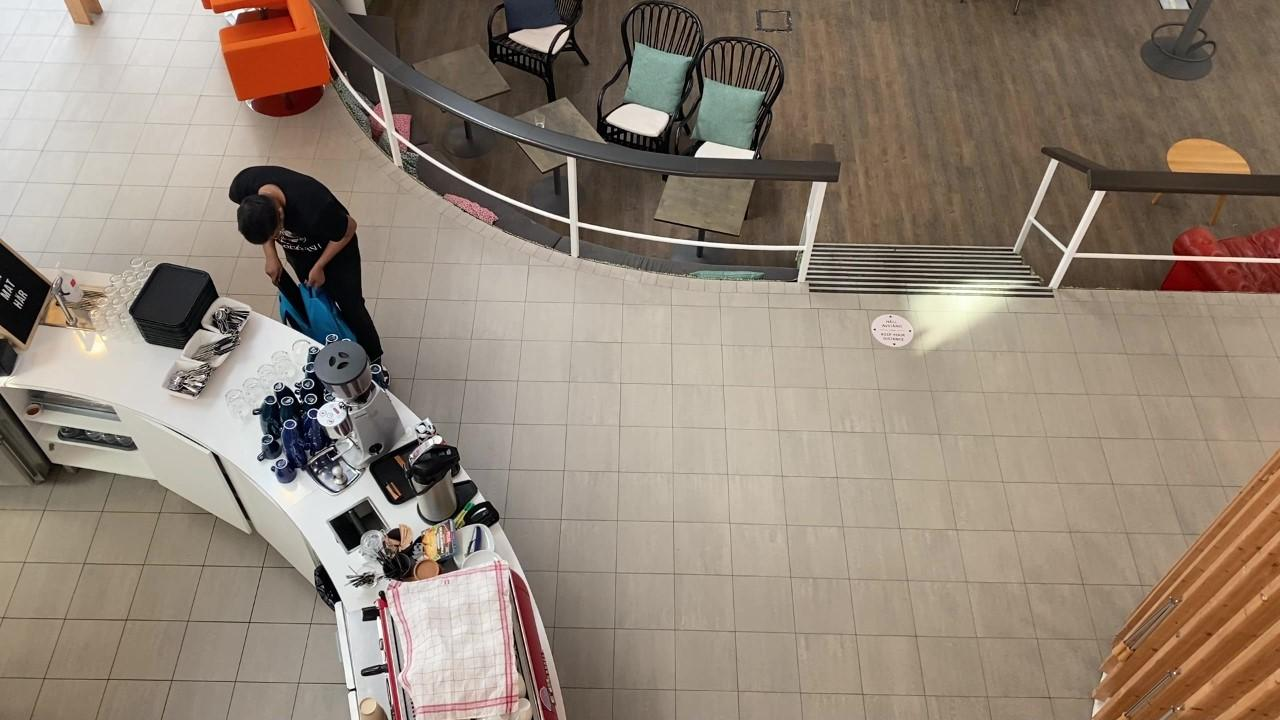shoplifting: (227, 165, 386, 372)
